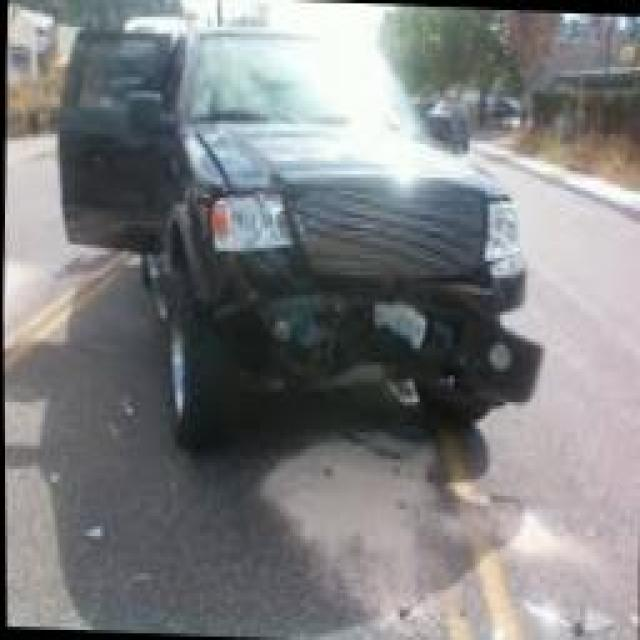Bumper: (213, 284, 547, 427)
